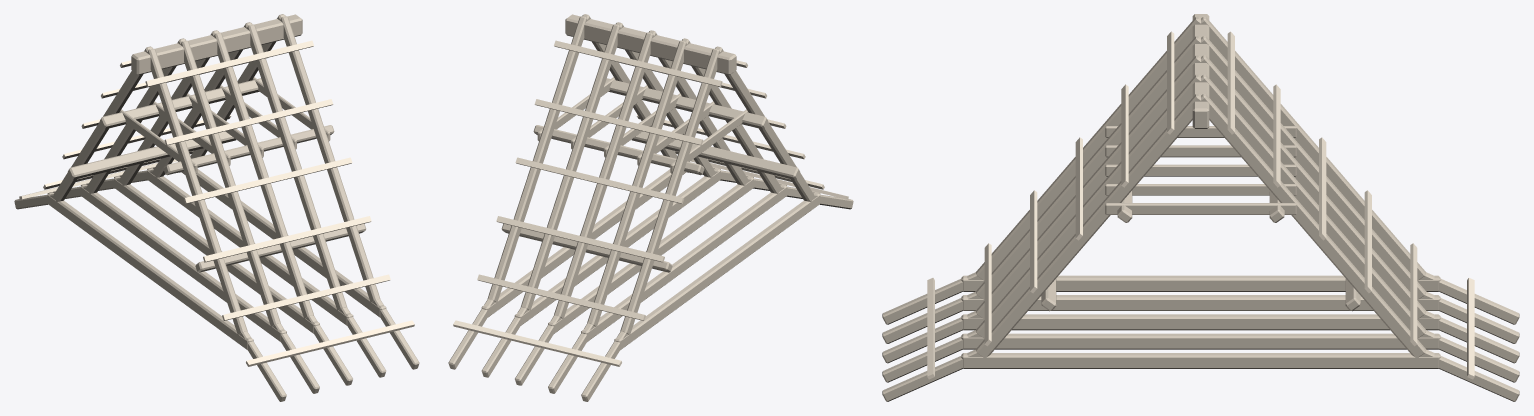
File: SM_VK_Roof_Mid_Frame.fbx
3 views of the same model, side by side, from view 1: azimuth 30°, elevation 25°; view 2: azimuth 150°, elevation 25°; view 3: azimuth 270°, elevation 25° (orthographic). The views are drawn at different scales.
Visible parts, largest first — view 1: SM_VK_Roof_Mid_Frame.001; view 2: SM_VK_Roof_Mid_Frame.001; view 3: SM_VK_Roof_Mid_Frame.001.
Part boxes in pixels (box(x1,y1,x2,y2)): SM_VK_Roof_Mid_Frame.001: box(14, 14, 419, 401); SM_VK_Roof_Mid_Frame.001: box(448, 14, 853, 401); SM_VK_Roof_Mid_Frame.001: box(882, 14, 1519, 401).
Size of the model in its own units: 3 by 4.44 by 8.39.
